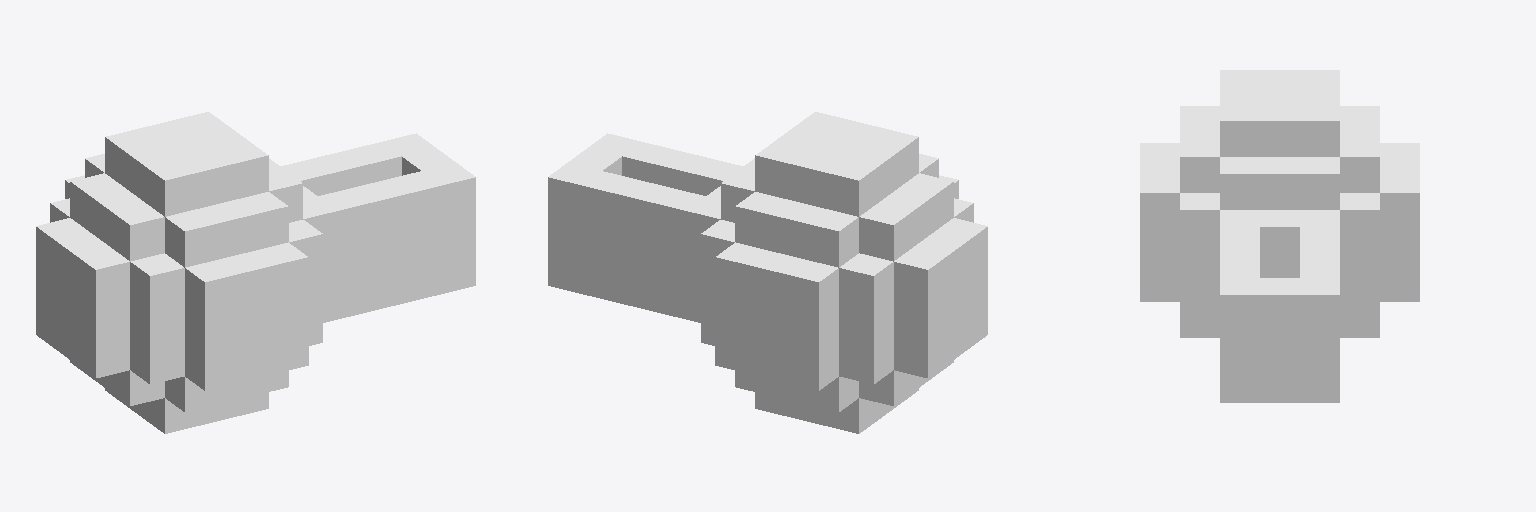
The model's file is MaulHead01.obj.
3 renders of one model, left to right at view 1: azimuth 30°, elevation 25°; view 2: azimuth 150°, elevation 25°; view 3: azimuth 270°, elevation 25°, orthographic.
Visible parts, largest first — view 1: object 1; view 2: object 1; view 3: object 1.
Part boxes in pixels (x1,y1,x2,y2): object 1: (36,112,475,433); object 1: (548,112,987,433); object 1: (1140,70,1419,402).
Size of the model in its own units: 1.1 by 0.7 by 0.7.